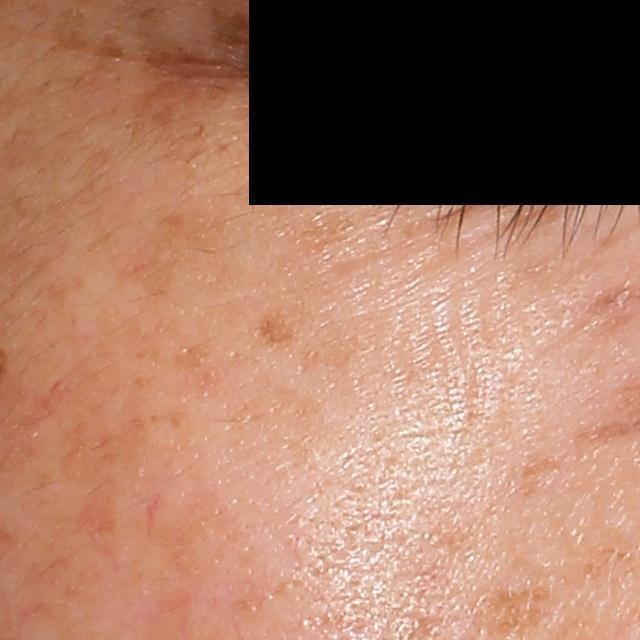melasma: (110, 204, 238, 300), (124, 81, 216, 165), (195, 0, 284, 72), (95, 384, 159, 465), (262, 307, 295, 358), (92, 29, 122, 65)
